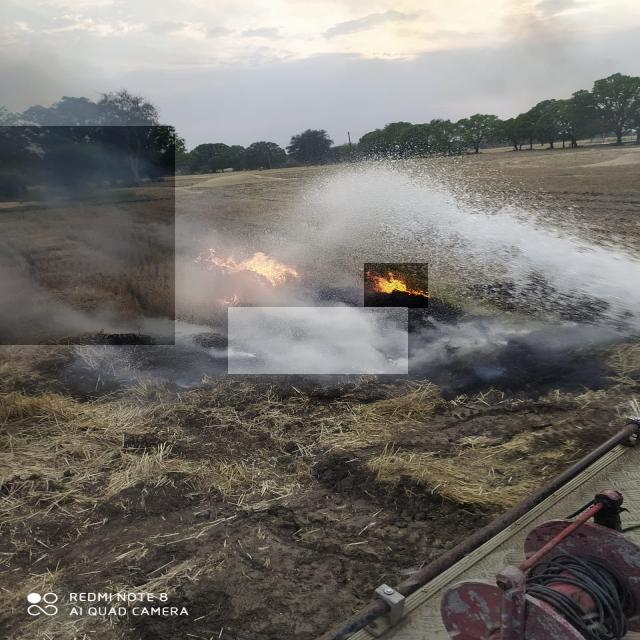Fire: (185, 235, 305, 303), (364, 263, 428, 308)
Smoke: (0, 126, 175, 345), (228, 307, 408, 374)
